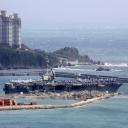Portanaves: (6, 54, 125, 96)
